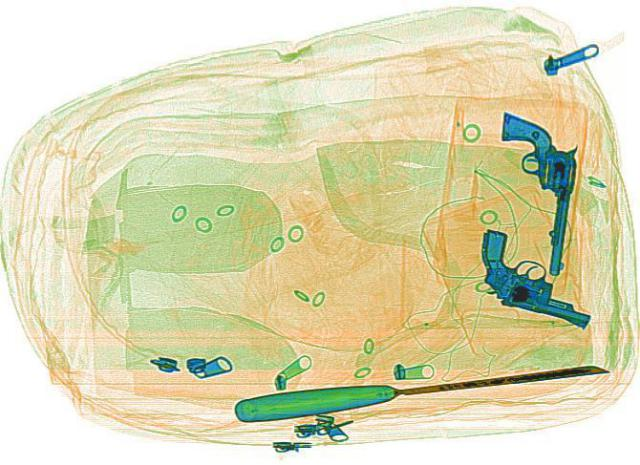Gun: (442, 218, 600, 343), (501, 110, 575, 273)
Knife: (231, 345, 609, 424)
